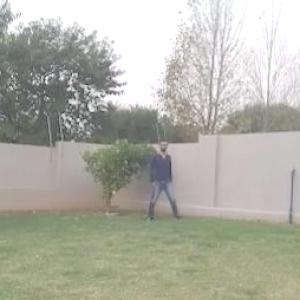follow: (150, 136, 171, 222)
